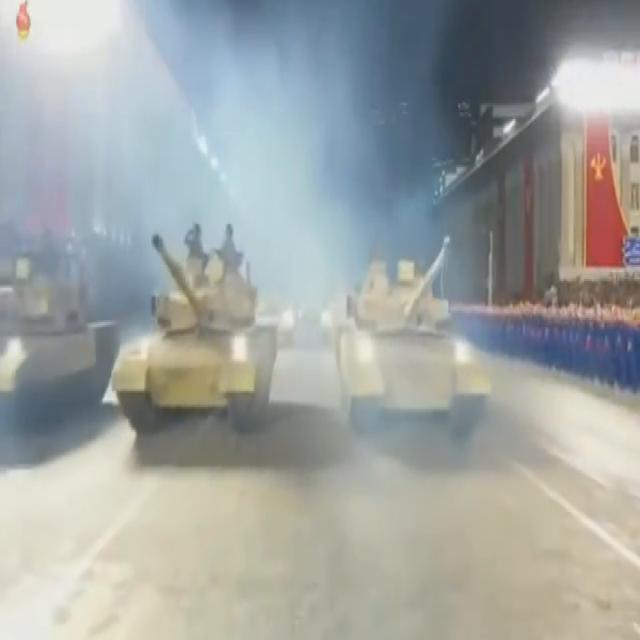north tank: (328, 218, 517, 489), (105, 212, 296, 462)
